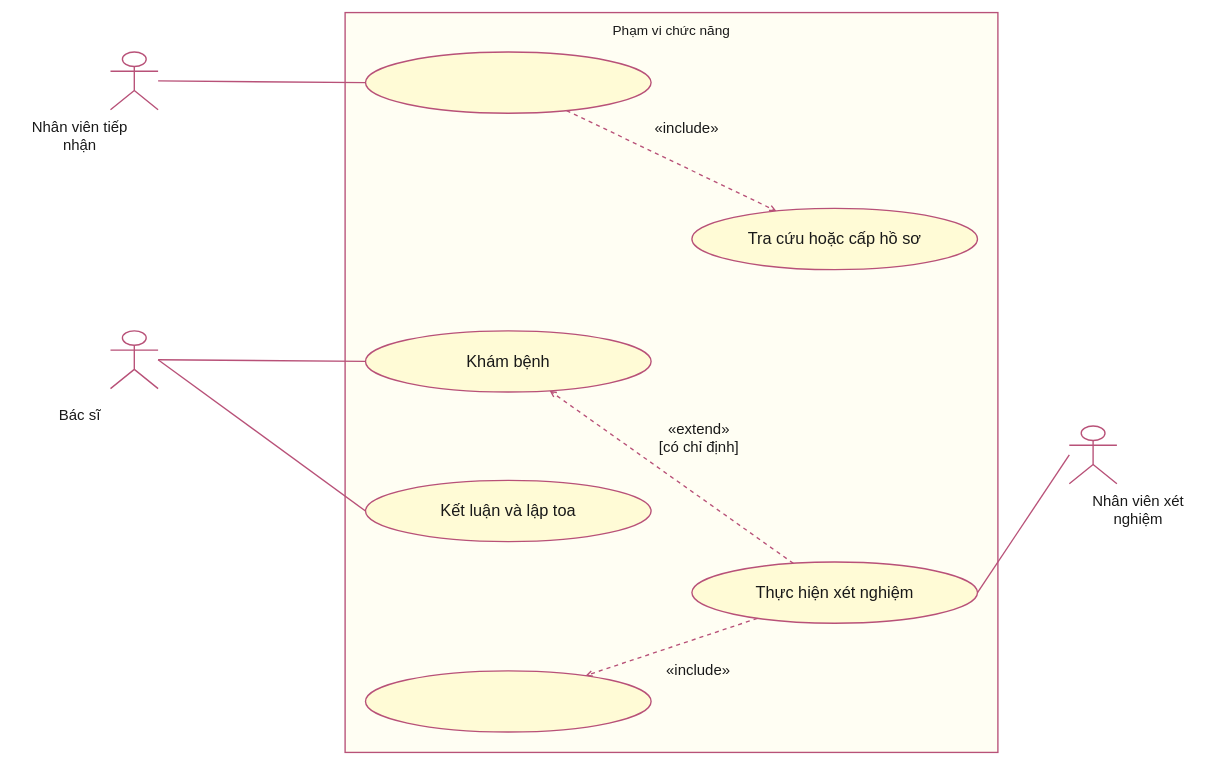
The diagram is 1213 pixels wide and 764 high, and some of its shapes have lost their labels. The box of each missing label's shape, as (x1, y1, x2, y2) in pixels:
Ghi nhận kết quả: (364, 670, 651, 732)
Tiếp nhận đăng ký khám: (364, 51, 651, 114)
